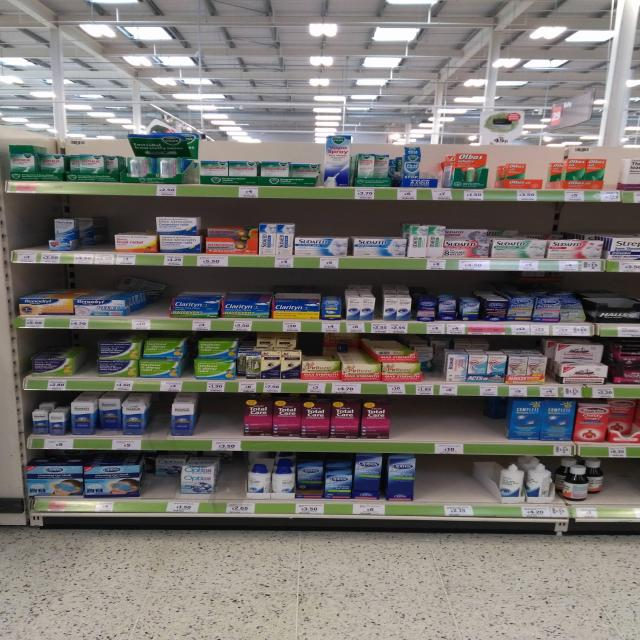empty: (394, 400, 508, 441), (419, 455, 490, 500), (201, 395, 241, 434), (606, 458, 639, 503), (220, 462, 245, 499), (20, 217, 48, 249), (151, 400, 170, 435), (77, 347, 98, 377), (95, 217, 113, 252), (141, 295, 169, 315)
